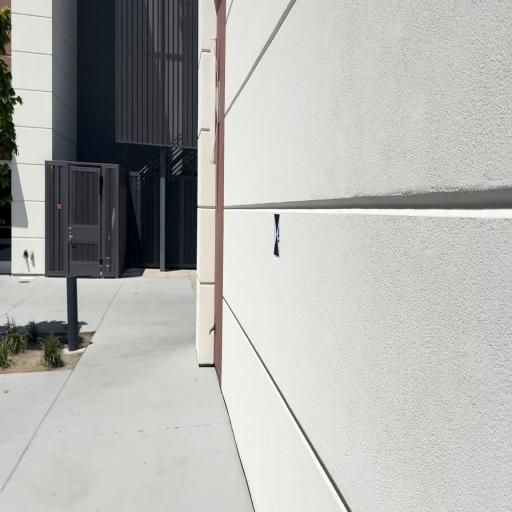target4: (273, 213, 281, 261)
